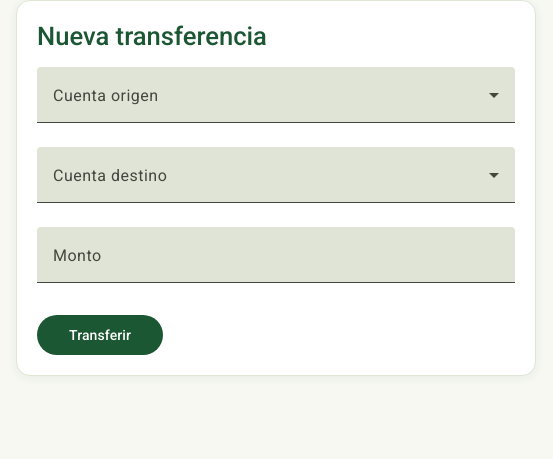
Test case: TransferenciaFormComponent › debe_enviar_la_solicitud_y_mostrar_exito_cuando_la_transferencia_se_completa
The width and height of the screenshot is (553, 459).
Select "1000000001 - Titular 1" in the dropdown named "cuentaOrigen" at (276, 103), box [53,91,499,115]
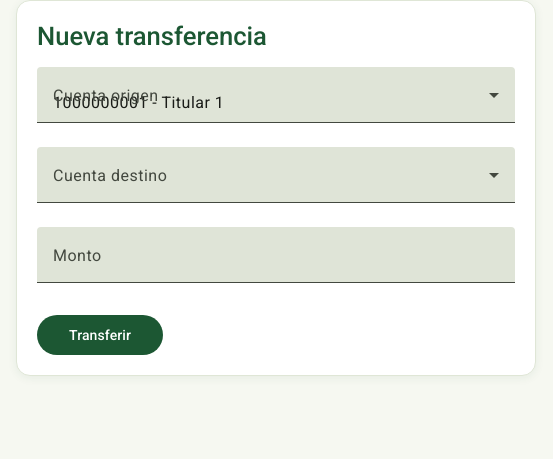
Select "1000000002 - Titular 2" in the dropdown named "cuentaDestino" at (276, 183), box [53,171,499,195]
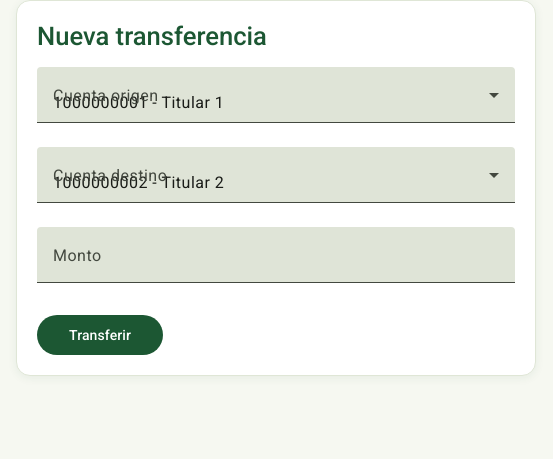
Type "150.5" into the field named "monto".
click(276, 263); type("150.5")  # box [53,251,499,275]
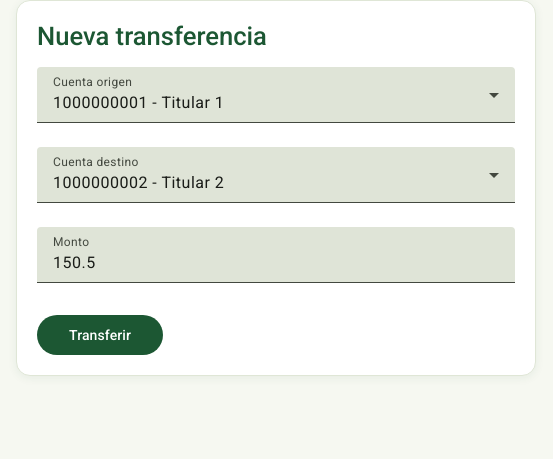
Click the submit button.
click(100, 335)  # box [37,315,163,355]
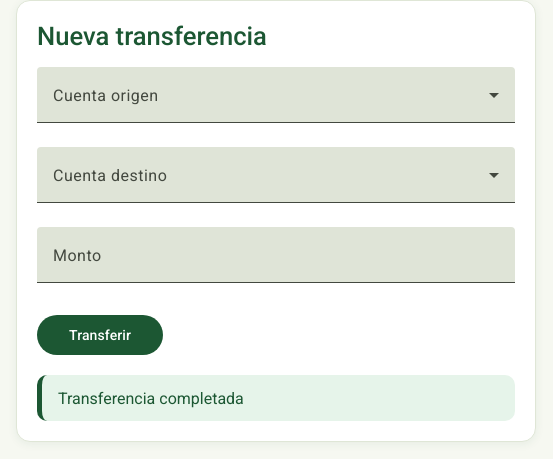
Check: the message with test id "resultado" reads "Transferencia completada", box [58,389,244,408]
